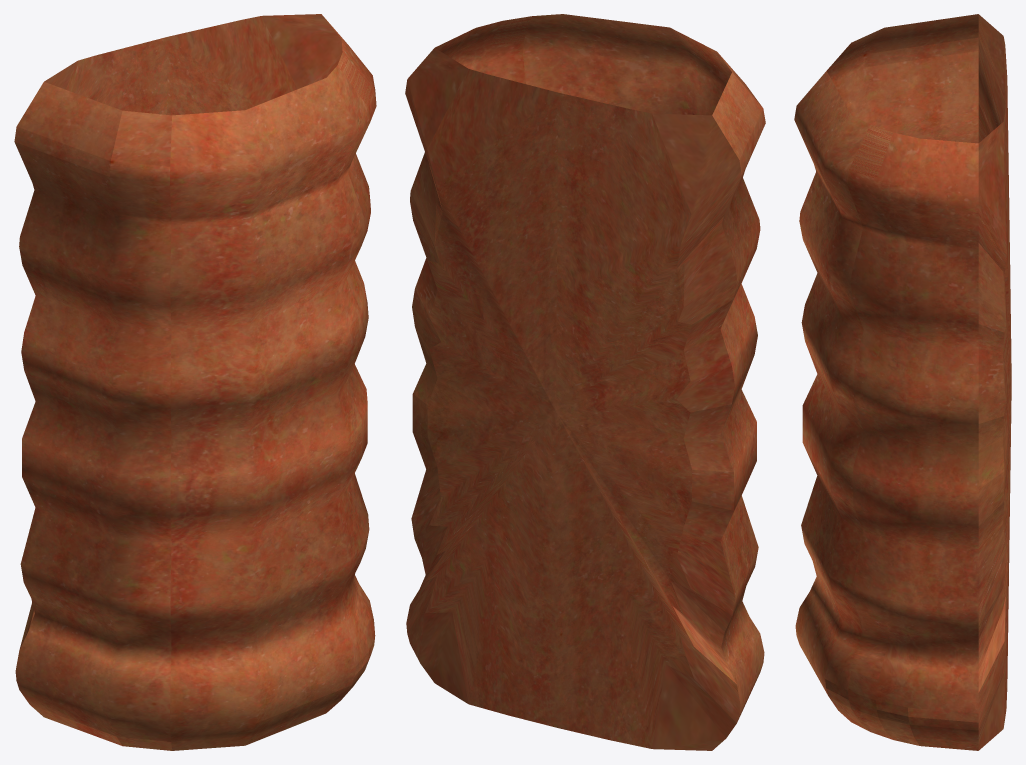
The model's file is trachea.fbx.
The picture shows the model from 3 angles, left to right: view 1: azimuth 30°, elevation 25°; view 2: azimuth 150°, elevation 25°; view 3: azimuth 270°, elevation 25°; orthographic projection. The views are drawn at different scales.
Parts seen in each view (by area): view 1: trachea; view 2: trachea; view 3: trachea.
Boxes of the visible parts, x1,y1,x2,y2 form: trachea: (14, 14, 376, 750); trachea: (405, 14, 765, 750); trachea: (794, 14, 1011, 750).
Bounding box in the file's own units: 241 × 435 × 141.
Materials: 1 (1 with a texture image).
